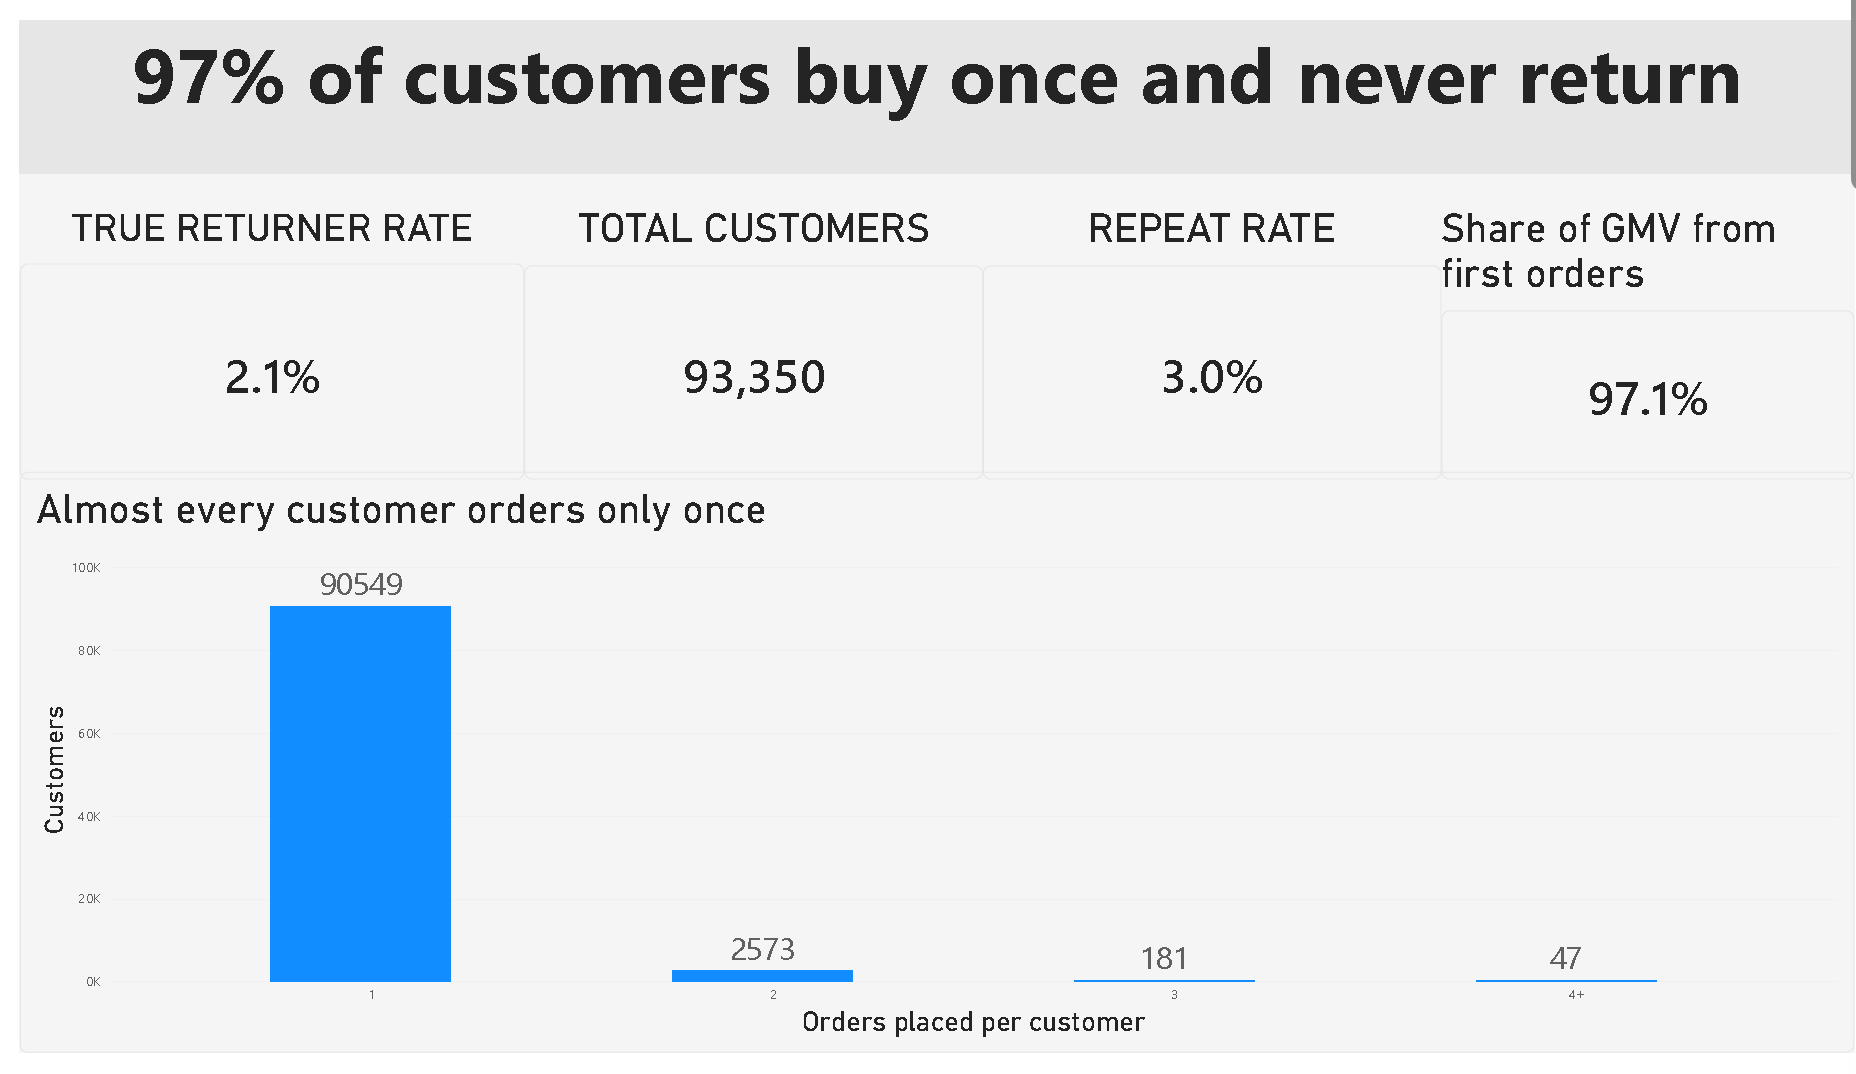

This screenshot's page, from the dashboard's own definition file:
{"tool":"powerbi","page":{"name":"Overview","canvas":[1920,1080],"ordinal":0},"visuals":[{"type":"cardVisual","title":"TOTAL CUSTOMERS","fields":{"Data":["category_significance.Total customers (text)"]},"box":[528,192,480,288],"z":0},{"type":"cardVisual","title":"REPEAT RATE","fields":{"Data":["category_significance.Repeat rate"]},"box":[1008,192,480,288],"z":1000},{"type":"cardVisual","title":"TRUE RETURNER RATE","fields":{"Data":["category_significance.True return rate"]},"box":[0,192,528,288],"z":2000},{"type":"cardVisual","title":"Share of GMV from first orders","fields":{"Data":["results_06_1.First order GMV share"]},"box":[1488,192,432,288],"z":3000},{"type":"clusteredColumnChart","title":"Almost every customer orders only once","fields":{"Category":["results_04_5.orders_bucket"],"Y":["Sum(results_04_5.customers)"]},"box":[0,472,1920,608],"z":4000},{"type":"textbox","box":[0,0,1920,160],"z":5000}]}

Visuals, with their boxes in screenshot pixels (x1, y1, x2, y2), scaled from the page's 1920x1080 canvas onto the 1856x1074 screenshot:
"TOTAL CUSTOMERS" cardVisual: [510,191,974,477]
"REPEAT RATE" cardVisual: [974,191,1438,477]
"TRUE RETURNER RATE" cardVisual: [0,191,510,477]
"Share of GMV from first orders" cardVisual: [1438,191,1855,477]
"Almost every customer orders only once" clusteredColumnChart: [0,469,1855,1073]
textbox: [0,0,1855,159]
